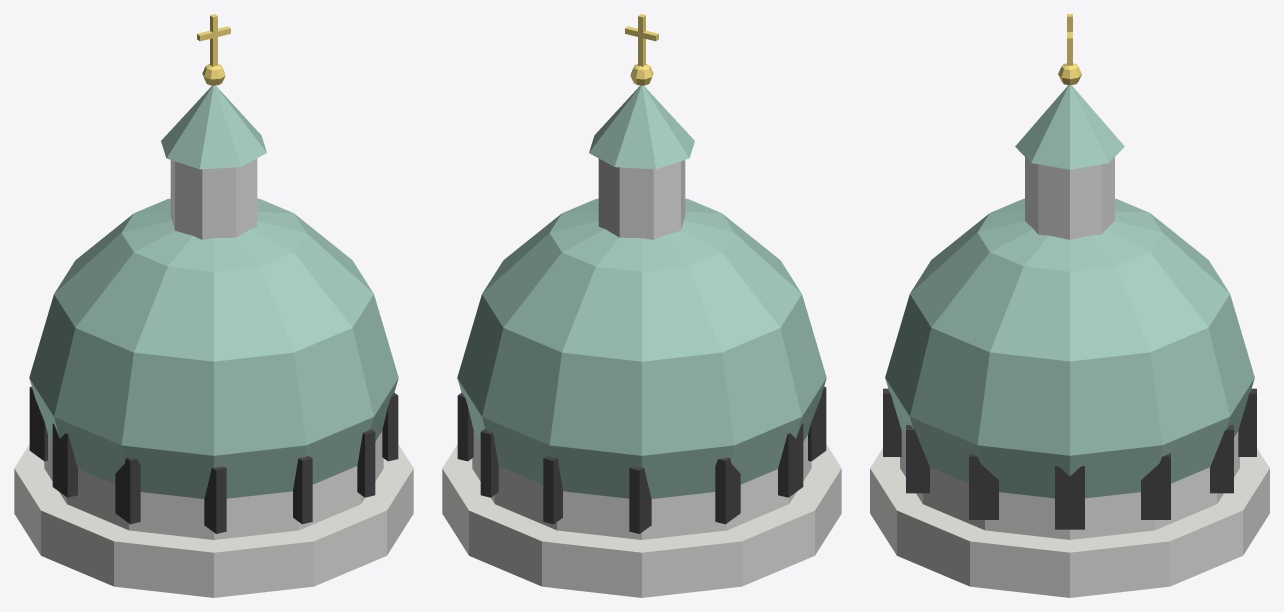
File: VN_Cupula.fbx
3 views of the same model, side by side, from view 1: azimuth 30°, elevation 25°; view 2: azimuth 150°, elevation 25°; view 3: azimuth 270°, elevation 25° (orthographic).
Parts seen in each view (by area): view 1: VN_Cupula; view 2: VN_Cupula; view 3: VN_Cupula.
Boxes of the visible parts, left/top/right/bottom form: VN_Cupula: left=14, top=14, right=413, bottom=597; VN_Cupula: left=442, top=14, right=841, bottom=597; VN_Cupula: left=870, top=14, right=1269, bottom=597.
Size of the model in its own units: 4 by 5.85 by 4.
